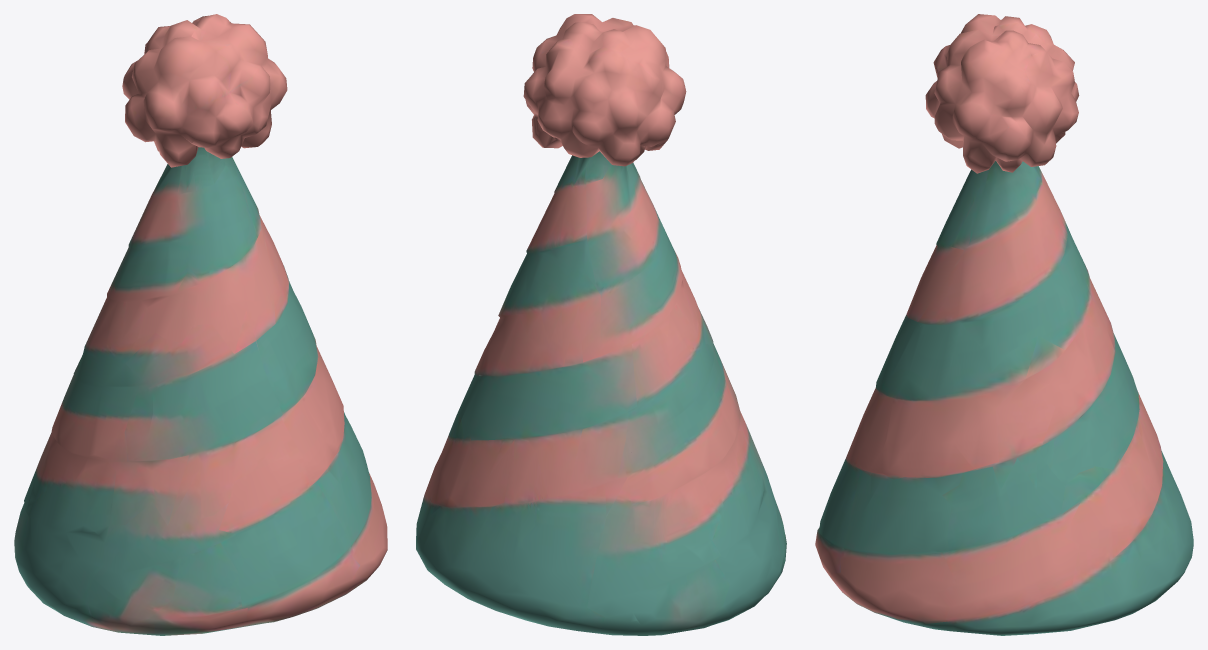
The model's file is hat-party.glb.
The picture shows the model from 3 angles, left to right: view 1: azimuth 30°, elevation 25°; view 2: azimuth 150°, elevation 25°; view 3: azimuth 270°, elevation 25°; orthographic projection.
Parts seen in each view (by area): view 1: tripo_node_bbdd8ac3-d802-4dbc-b9d4-07db5ce80136; view 2: tripo_node_bbdd8ac3-d802-4dbc-b9d4-07db5ce80136; view 3: tripo_node_bbdd8ac3-d802-4dbc-b9d4-07db5ce80136.
Part boxes in pixels (x1=…): tripo_node_bbdd8ac3-d802-4dbc-b9d4-07db5ce80136: x1=14, y1=14, x2=387, y2=635; tripo_node_bbdd8ac3-d802-4dbc-b9d4-07db5ce80136: x1=416, y1=14, x2=786, y2=635; tripo_node_bbdd8ac3-d802-4dbc-b9d4-07db5ce80136: x1=815, y1=14, x2=1193, y2=635.
Size of the model in its own units: 0.6176 by 1 by 0.6176.
1 material, 1 textured.
